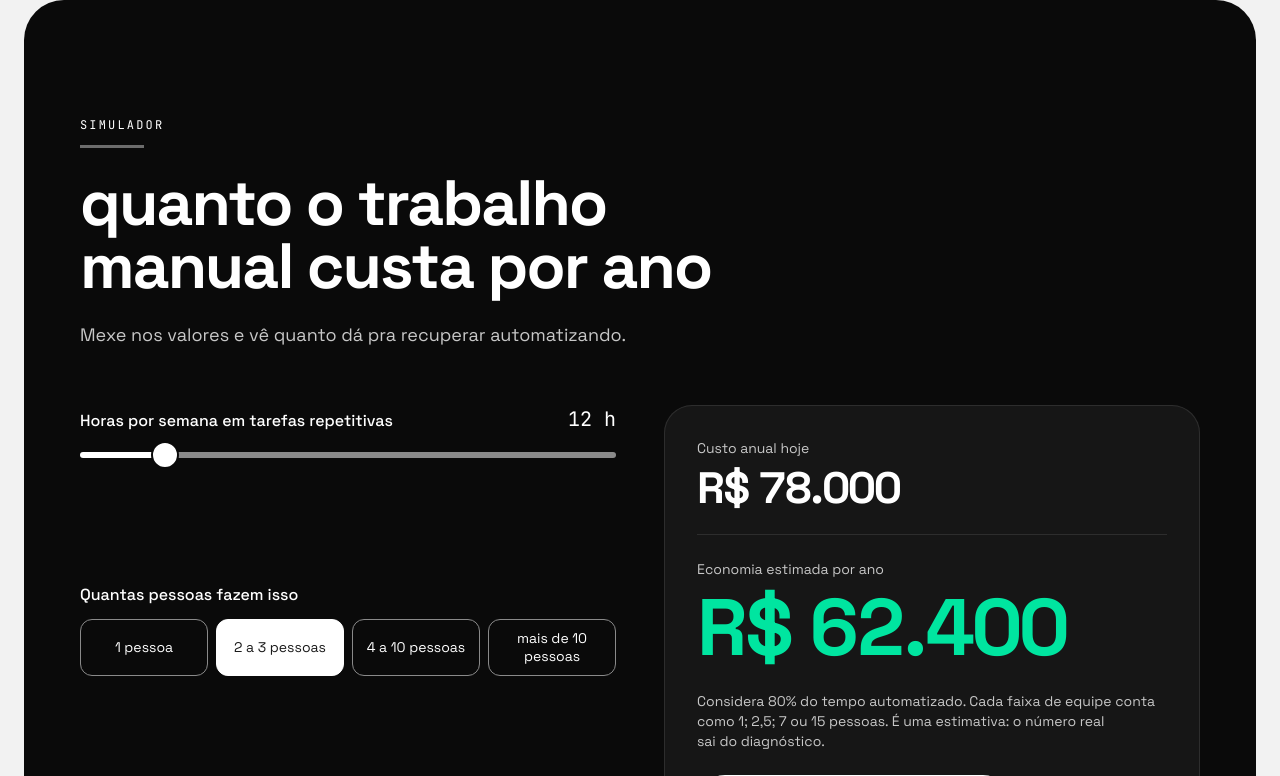
Scenario: RoiSimulator team radios › chooses an option on click and unchecks the one before
Click the radio button labelled "4 a 10 pessoas" at [416, 648], box x1=352 y1=619 x2=480 y2=676
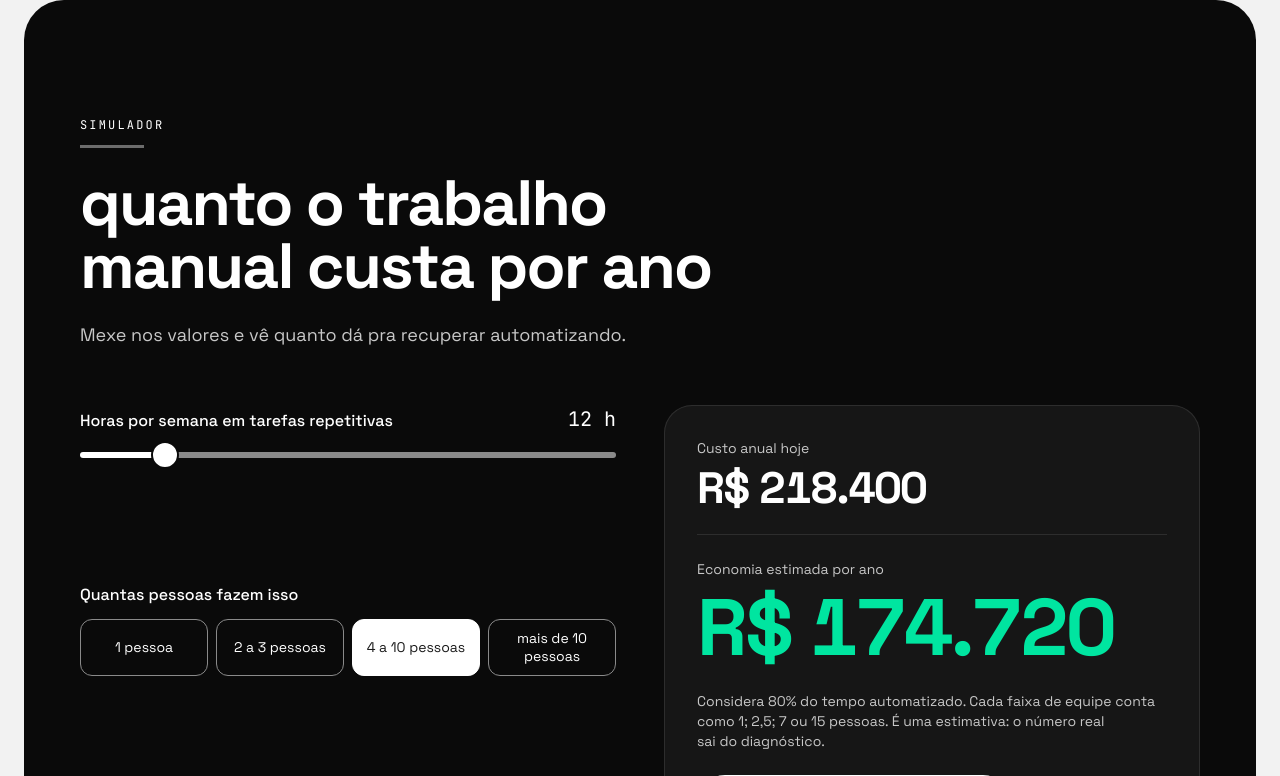
Expected: the radio button labelled "4 a 10 pessoas" is checked, x1=352 y1=619 x2=480 y2=676
Expected: the radio button labelled "2 a 3 pessoas" is not checked, x1=216 y1=619 x2=344 y2=676
